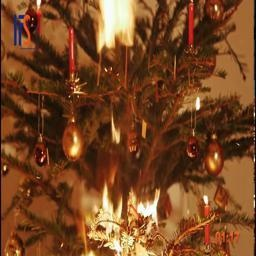fire: (76, 172, 162, 248)
